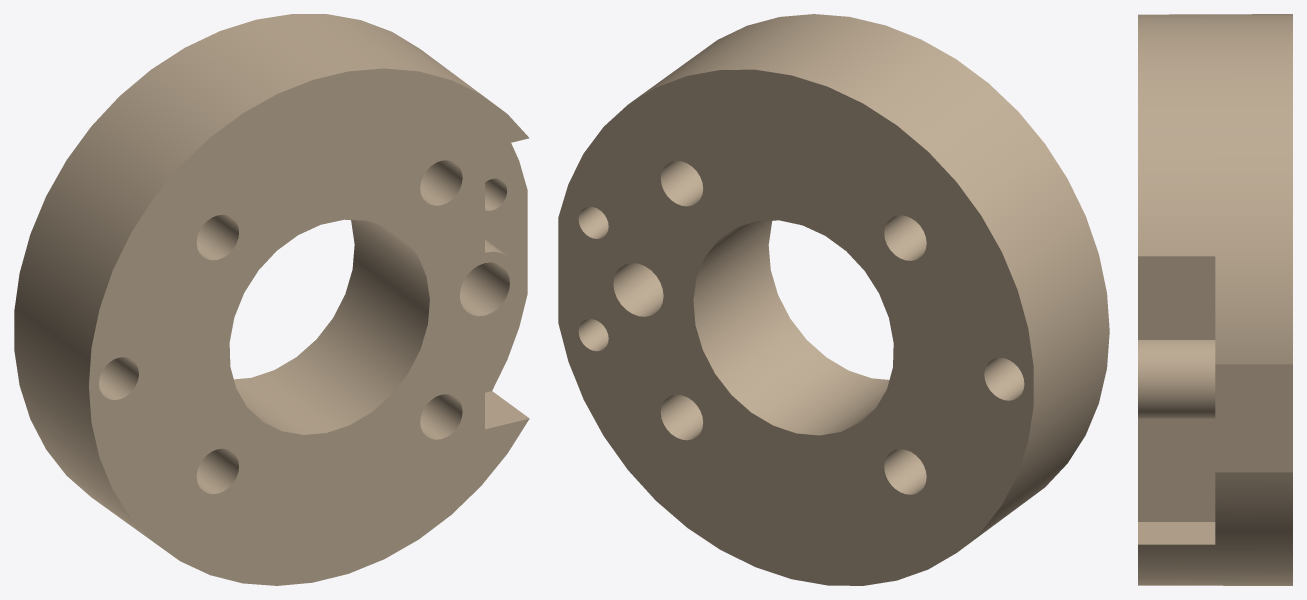
Rendered from toolchanger_tool_side.glb.
3 views of the same model, side by side, from view 1: azimuth 30°, elevation 25°; view 2: azimuth 150°, elevation 25°; view 3: azimuth 270°, elevation 25° (orthographic). The views are drawn at different scales.
Visible parts, largest first — view 1: Tool Changer Tool Side v4; view 2: Tool Changer Tool Side v4; view 3: Tool Changer Tool Side v4.
Part boxes in pixels (x1,y1,x2,y2): Tool Changer Tool Side v4: [14, 14, 529, 585]; Tool Changer Tool Side v4: [558, 14, 1109, 585]; Tool Changer Tool Side v4: [1138, 14, 1292, 585].
Bounding box in the file's own units: 47.47 × 48 × 13.
